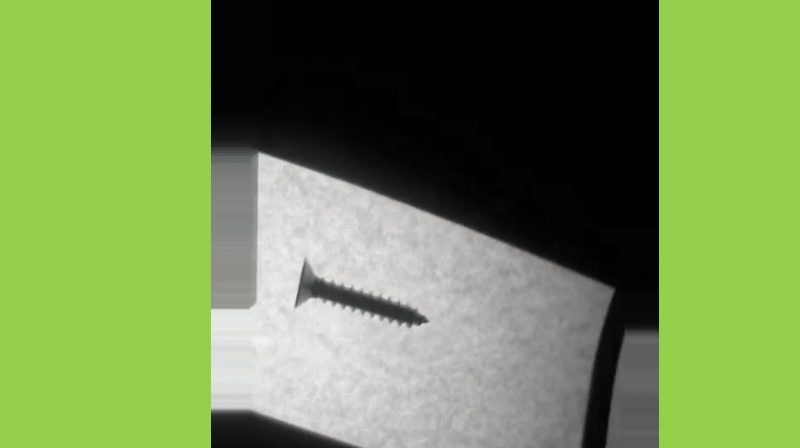S001: (289, 254, 430, 331)
